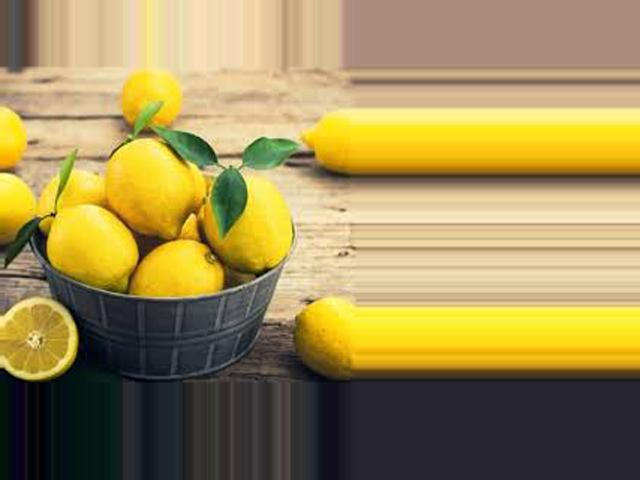lemon: (45, 203, 147, 315)
